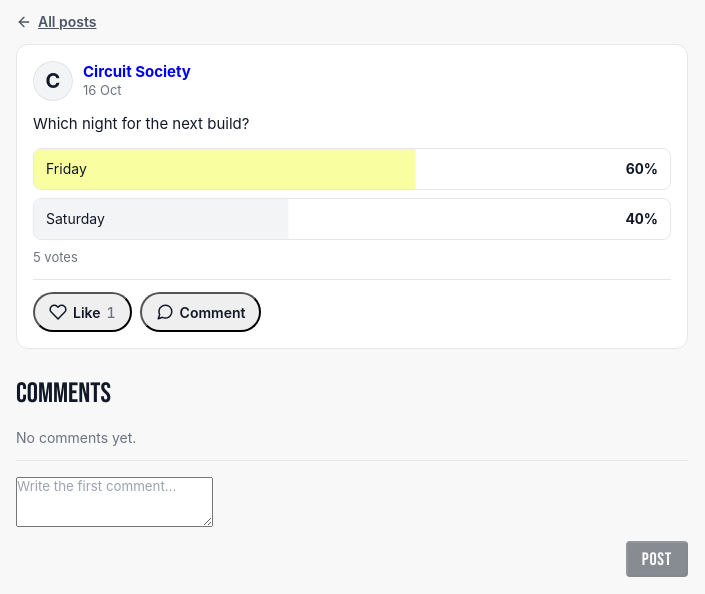
a post, signed in › votes in a poll and shows the poll as it now stands
Click the button with aria-label "Vote for Saturday (40% so far)": {"x": 161, "y": 218} [33,198,671,240]
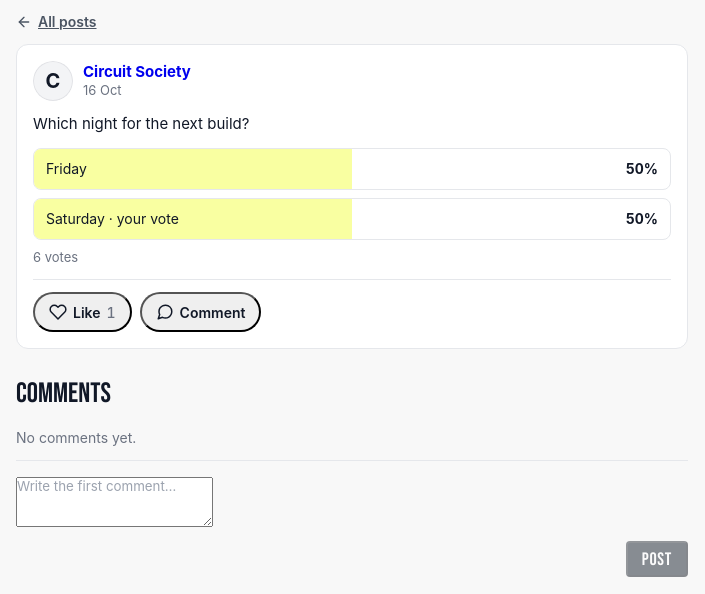
Result: the text "6 votes" is shown at [33,248,78,264]
